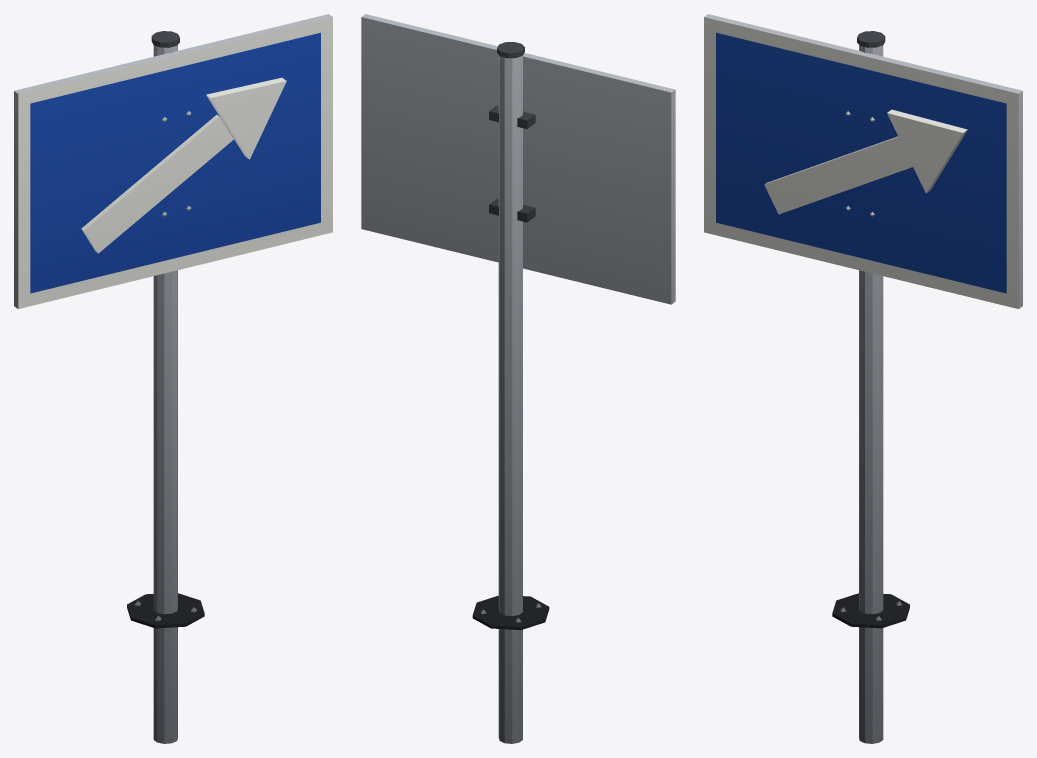
File: Sign_Gore.fbx
The picture shows the model from 3 angles, left to right: view 1: azimuth 30°, elevation 25°; view 2: azimuth 150°, elevation 25°; view 3: azimuth 330°, elevation 25°; orthographic projection.
Visible parts, largest first — view 1: Sign_Gore_LOD0; view 2: Sign_Gore_LOD0; view 3: Sign_Gore_LOD0.
Boxes of the visible parts, x1,y1,x2,y2 form: Sign_Gore_LOD0: [14, 14, 332, 743]; Sign_Gore_LOD0: [361, 14, 675, 743]; Sign_Gore_LOD0: [704, 14, 1022, 743].
Size of what is drawn, in the model's own units: 1.3 by 2.77 by 0.288.
1 material, 1 textured.
